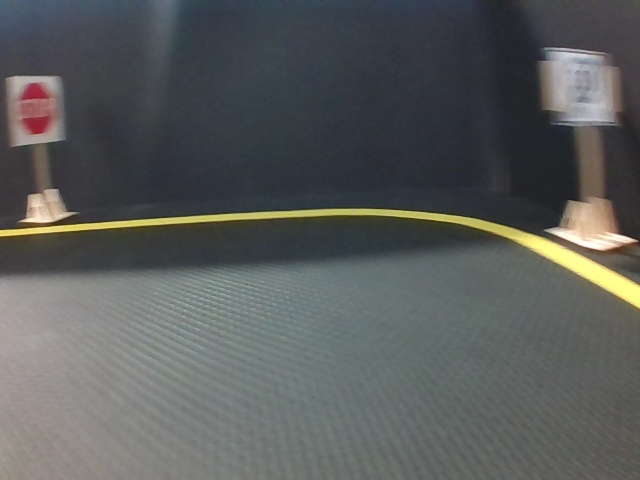no30: (551, 47, 613, 125)
stop: (9, 78, 66, 145)
